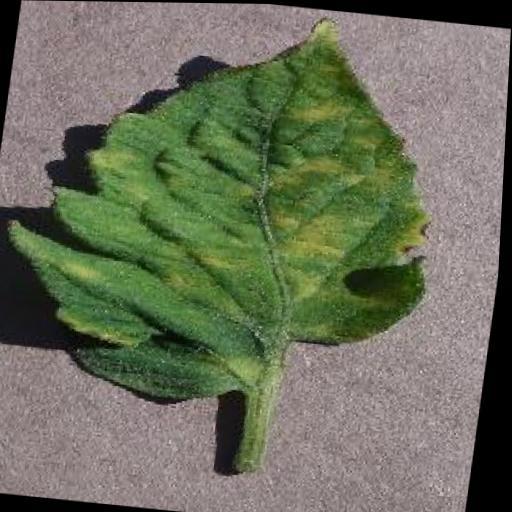Leaf Mold: (0, 0, 462, 426)
